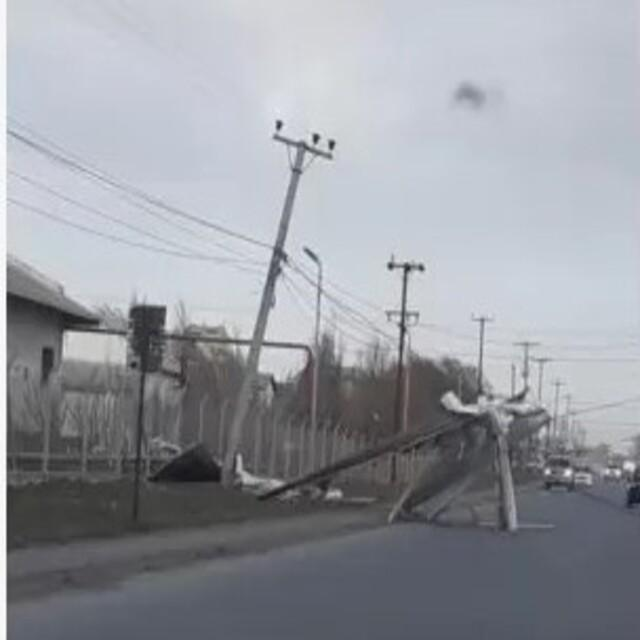Inclined Pole: (254, 389, 554, 537)
